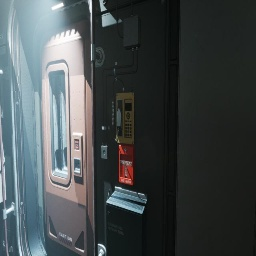EmergencyPhone ,: (112, 78, 135, 144)
FireAlarm ,: (119, 143, 135, 186)
SafetySwitchPanel ,: (0, 125, 6, 203)
